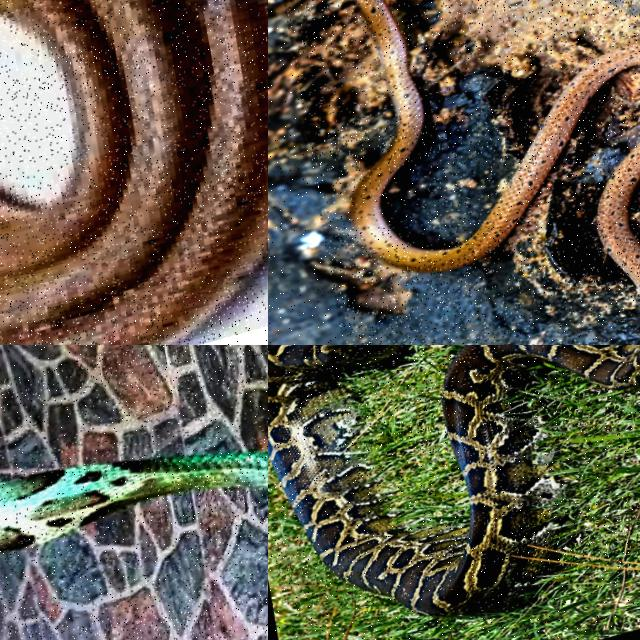Calliophis maculiceps: (0, 0, 267, 344), (352, 0, 639, 273)
Naja kaouthia: (0, 451, 267, 551)
Python bivittatus: (268, 345, 639, 619)
